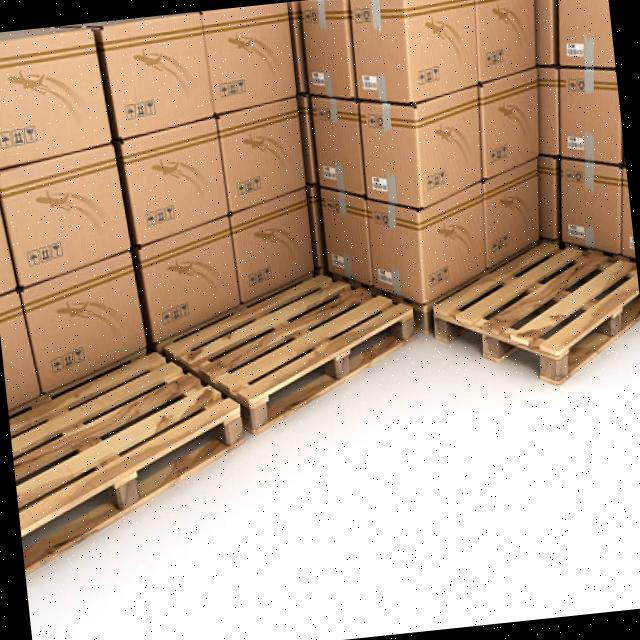Wooden-Pallets: (10, 343, 254, 582), (159, 262, 420, 446), (428, 228, 640, 390)
